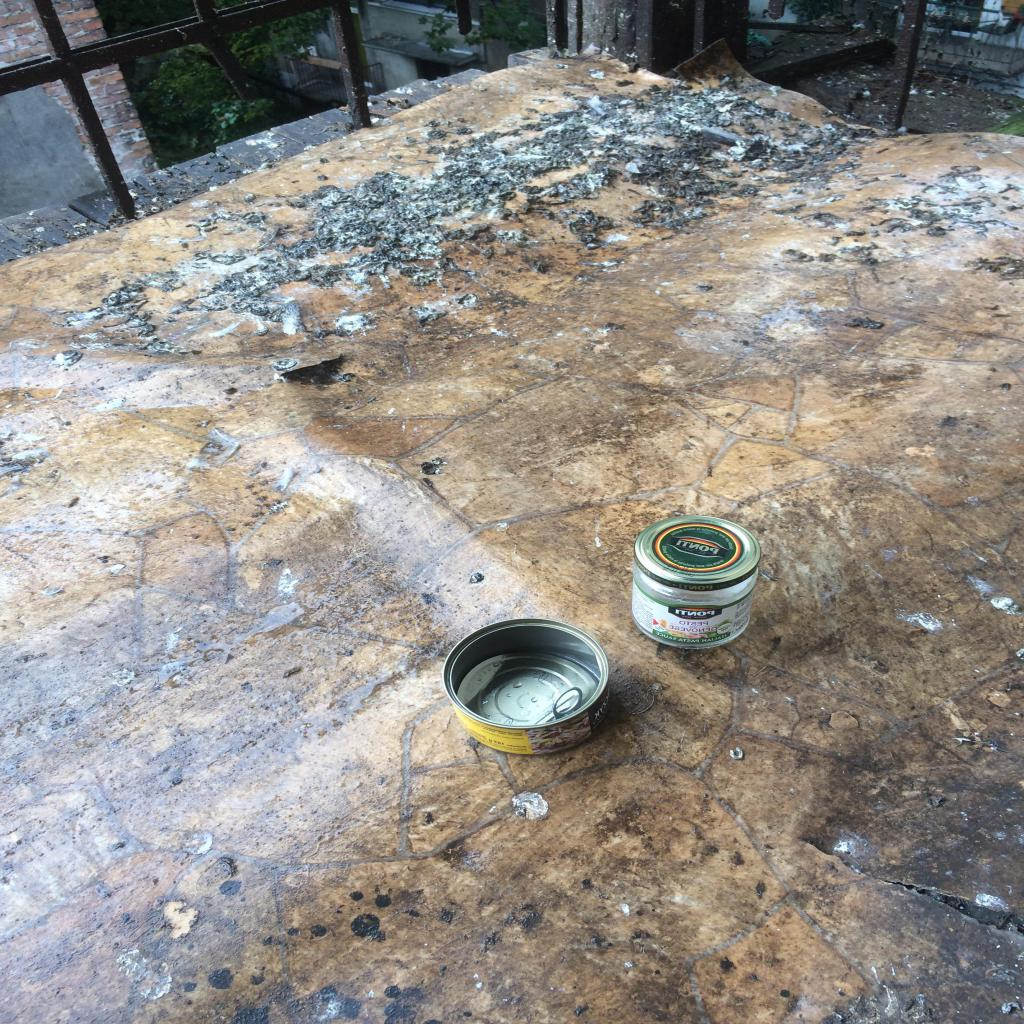Pop tab: (552, 688, 582, 720)
